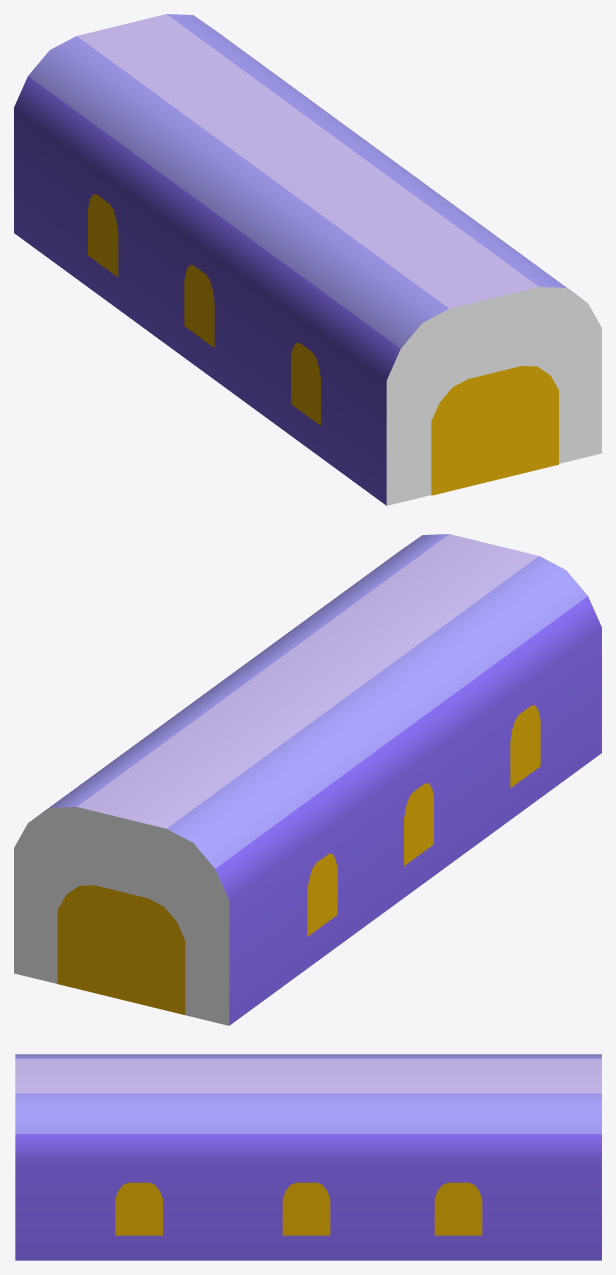
The model's file is Building_015_a.fbx.
3 views of the same model, one above another, from view 1: azimuth 30°, elevation 25°; view 2: azimuth 150°, elevation 25°; view 3: azimuth 270°, elevation 25° (orthographic). The views are drawn at different scales.
Parts seen in each view (by area): view 1: Building_015_a; view 2: Building_015_a; view 3: Building_015_a.
Boxes of the visible parts, x1,y1,x2,y2 form: Building_015_a: [14, 14, 601, 505]; Building_015_a: [14, 534, 601, 1025]; Building_015_a: [15, 1054, 601, 1260].
Size of the model in its own units: 16.49 by 12.92 by 48.11.
